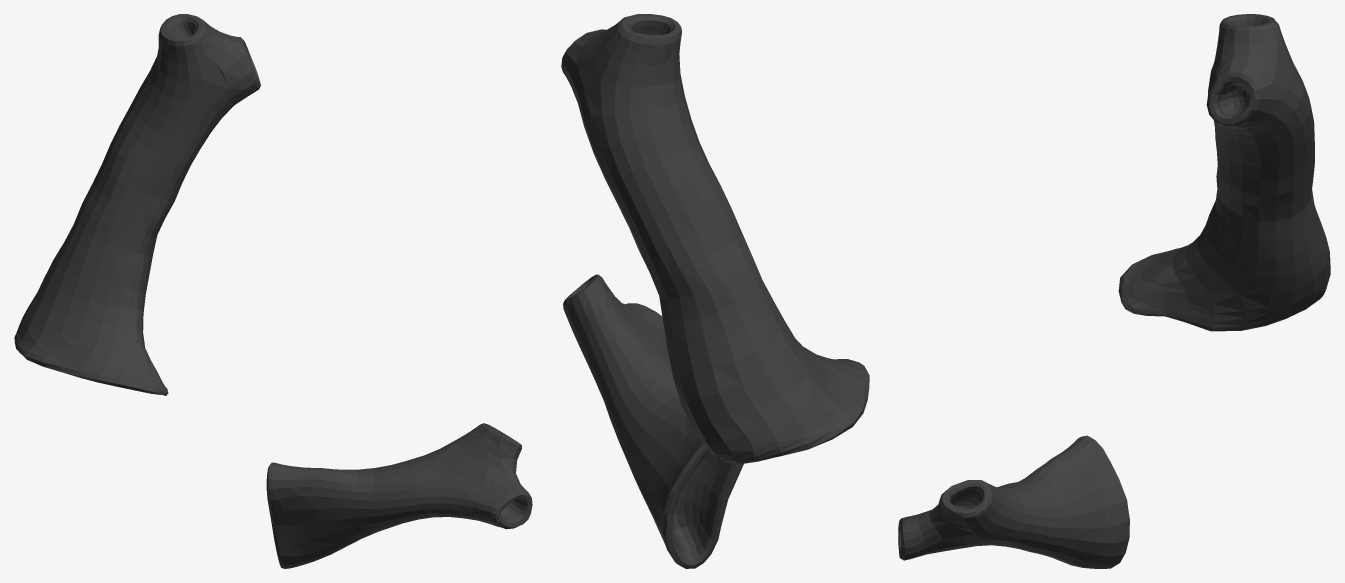
File: Common_crus_semicirc_canals_2_L.glb
3 views of the same model, side by side, from view 1: azimuth 30°, elevation 25°; view 2: azimuth 150°, elevation 25°; view 3: azimuth 270°, elevation 25° (orthographic). The views are drawn at different scales.
Visible parts, largest first — view 1: Common_crus_semicirc_canals_2_L; view 2: Common_crus_semicirc_canals_2_L; view 3: Common_crus_semicirc_canals_2_L.
Boxes of the visible parts, bbox=[...] form: Common_crus_semicirc_canals_2_L: bbox=[14, 14, 532, 568]; Common_crus_semicirc_canals_2_L: bbox=[561, 14, 869, 568]; Common_crus_semicirc_canals_2_L: bbox=[898, 14, 1330, 568].
Size of the model in its own units: 1.36 by 1.8 by 1.32.
Materials: 1 (1 with a texture image).
